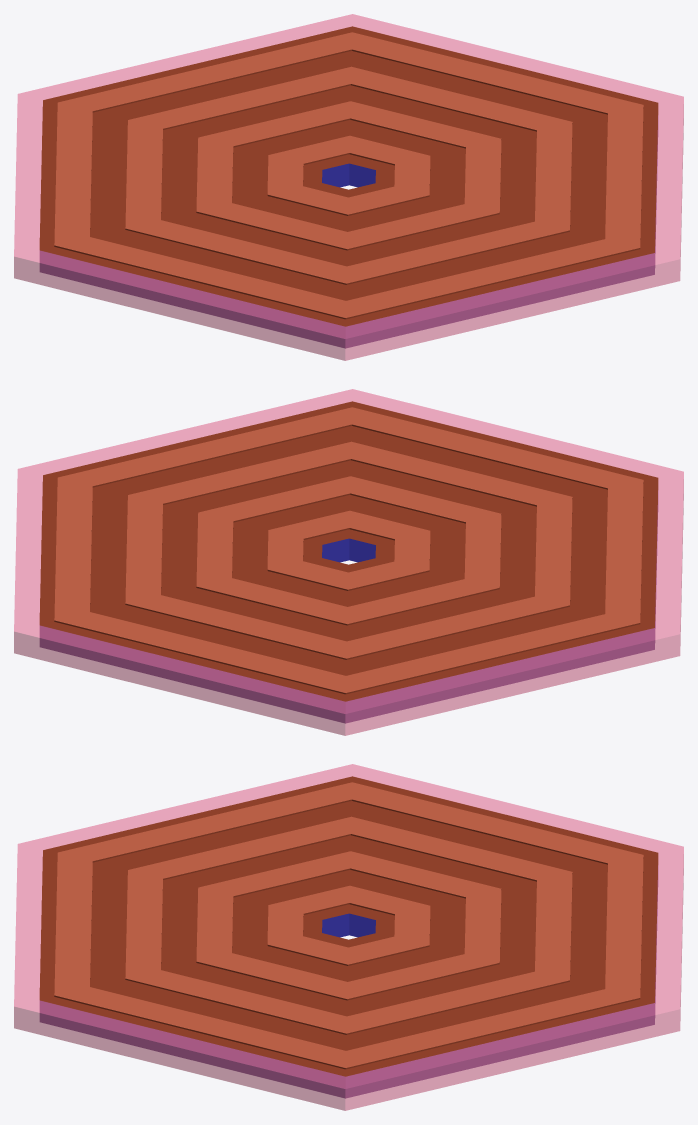
File: L'architoque_Elevator.glb
3 renders of one model, top to bottom at view 1: azimuth 30°, elevation 25°; view 2: azimuth 150°, elevation 25°; view 3: azimuth 270°, elevation 25°, orthographic.
Visible parts, largest first — view 1: L'architoque_Elevator; view 2: L'architoque_Elevator; view 3: L'architoque_Elevator.
Part boxes in pixels (x1,y1,x2,y2): L'architoque_Elevator: (14, 14, 683, 360); L'architoque_Elevator: (14, 389, 683, 735); L'architoque_Elevator: (14, 764, 683, 1110).
Size of what is drawn, in the model's own units: 7.84 by 0.2612 by 6.83.
3 materials, 3 textured.
